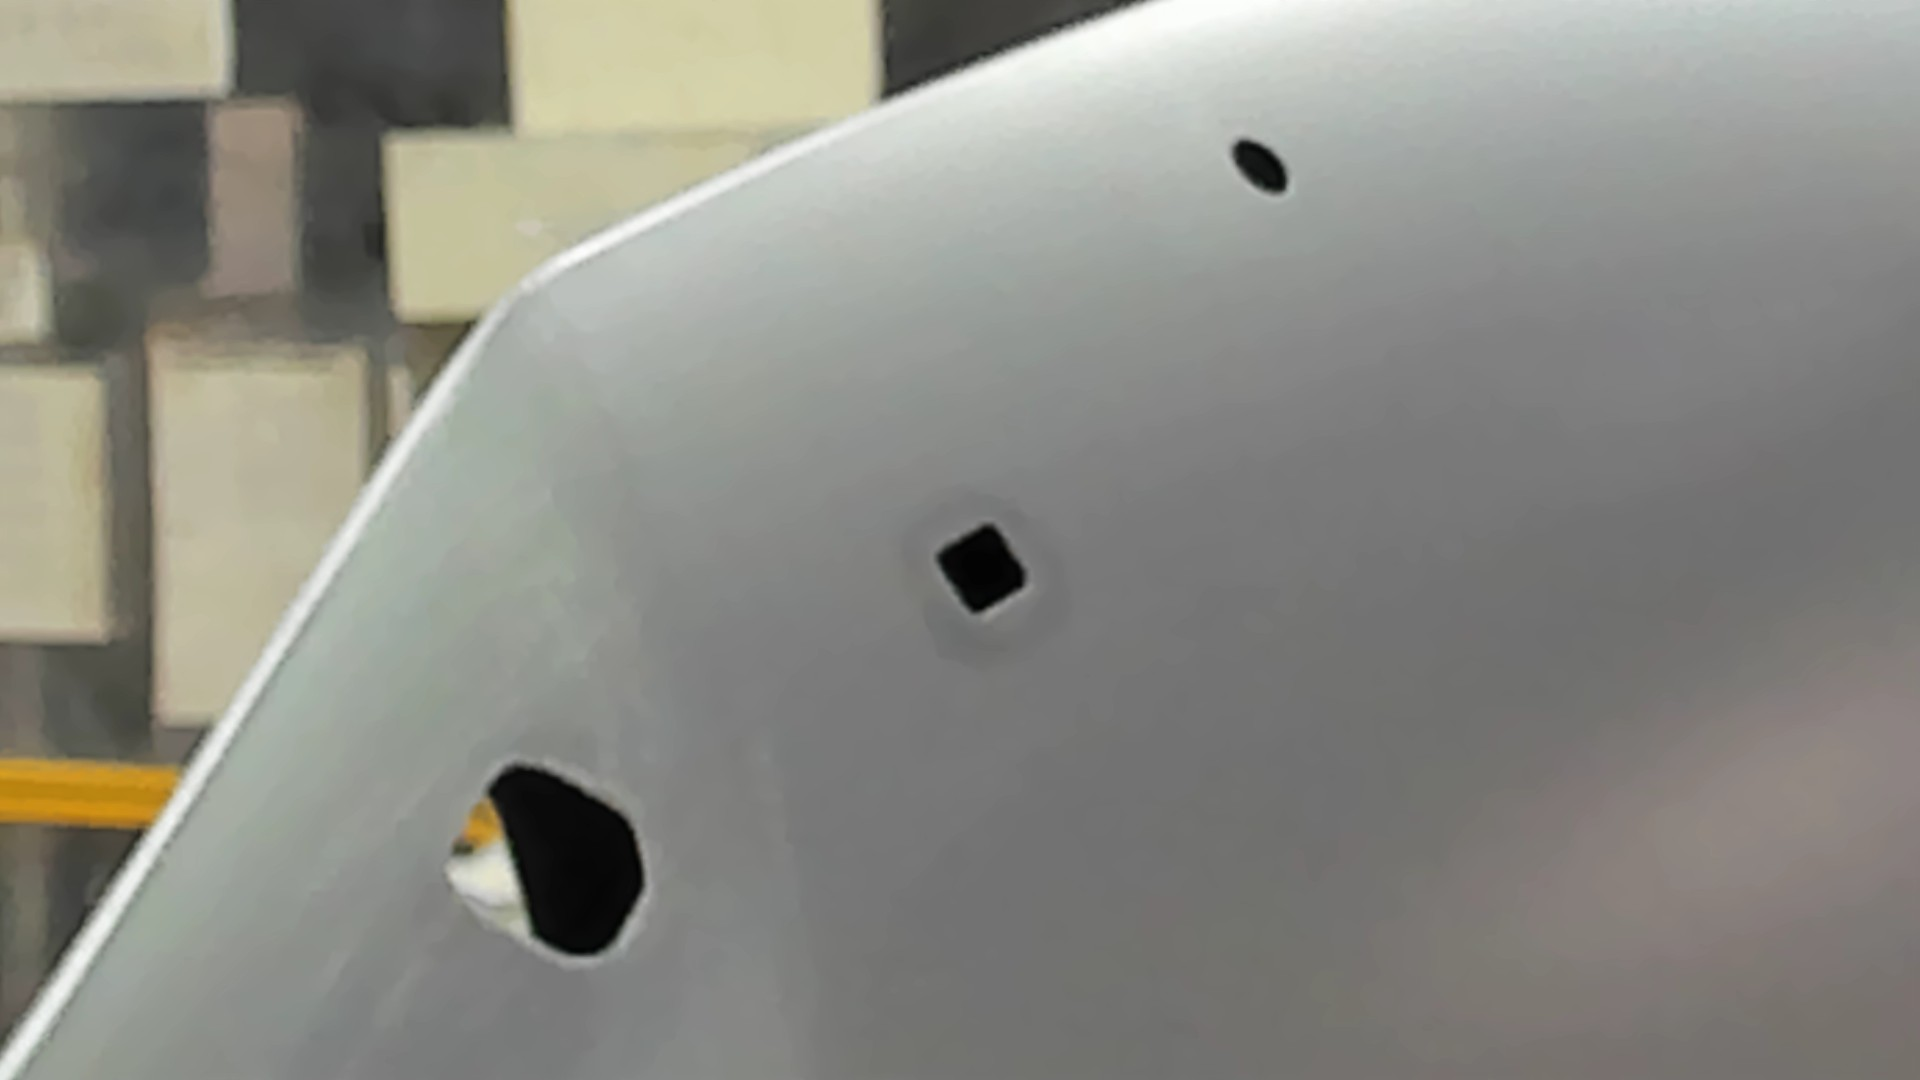chico: (1225, 131, 1294, 200)
grande: (433, 753, 654, 972)
mediano: (928, 516, 1033, 622)
